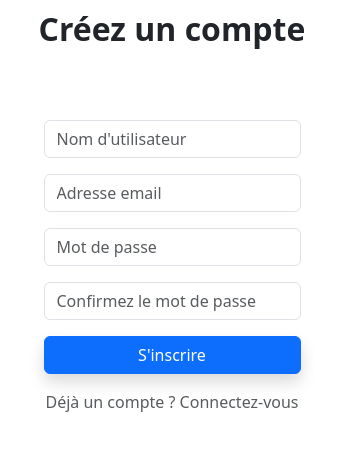
Test: RegisterView.vue › devrait afficher une erreur si les mots de passe ne correspondent pas
Type "testuser" into the field with placeholder "Nom d" at (172, 139), box [44, 120, 300, 158]
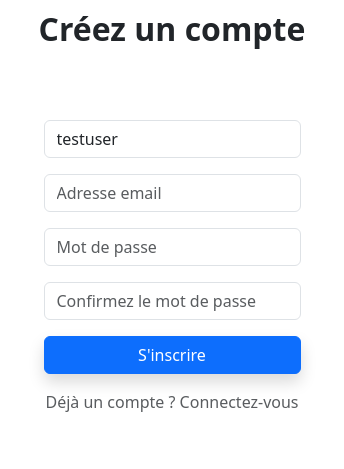
Type "test@example.com" into the field with placeholder "Adresse email" at (172, 193), box [44, 174, 300, 212]
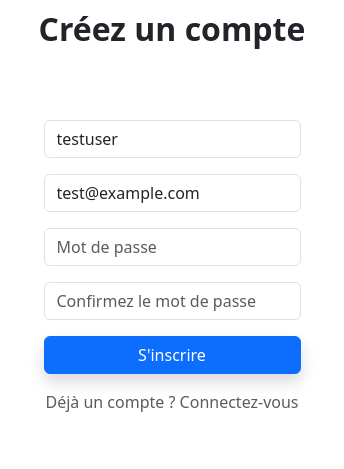
Type "password123" into the password field with placeholder "Mot de passe" at (172, 247), box [44, 228, 300, 266]
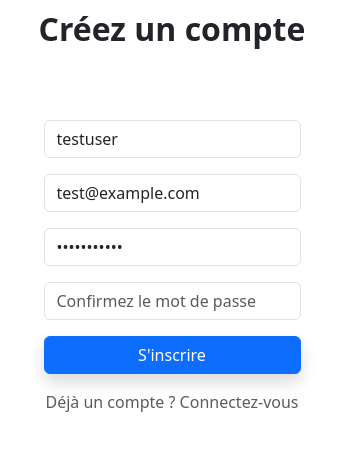
Type "differentpassword" into the password field with placeholder "Confirmez le mot de passe" at (172, 301), box [44, 282, 300, 320]
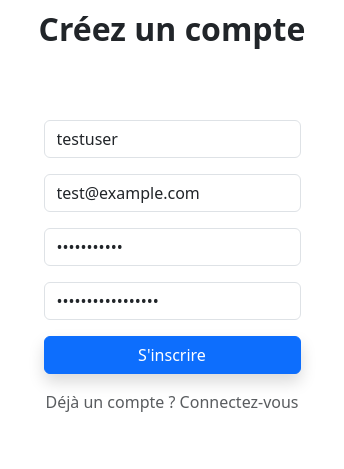
Submit the form, box [44, 120, 300, 390]
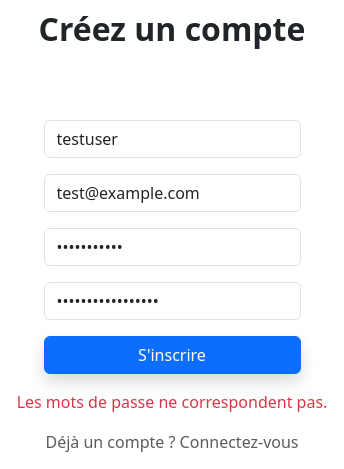
Check: the text "Les mots de passe ne correspondent pas." is shown, box [17, 390, 327, 414]
